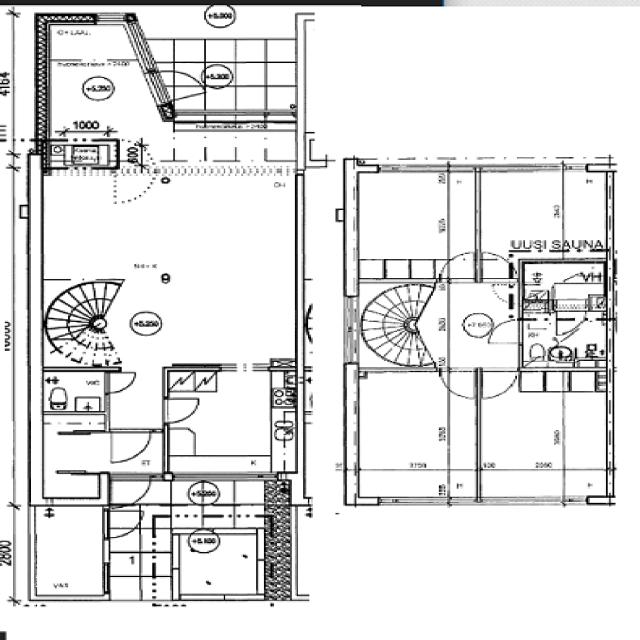door: (106, 426, 158, 467), (476, 366, 519, 401), (107, 474, 153, 506), (442, 366, 480, 400), (104, 509, 143, 542), (440, 250, 480, 282), (160, 395, 202, 425), (475, 250, 514, 282), (482, 317, 523, 347), (101, 370, 139, 396), (488, 281, 516, 303)
window: (340, 295, 360, 365), (480, 494, 562, 508), (360, 364, 436, 378), (374, 495, 448, 509), (376, 160, 445, 175), (219, 359, 274, 374), (92, 11, 130, 26), (562, 495, 589, 508), (221, 594, 263, 602), (559, 162, 591, 172)
zone: (105, 479, 284, 604), (147, 1, 300, 120), (478, 368, 612, 500), (164, 367, 296, 475), (352, 368, 456, 500), (475, 169, 611, 261), (44, 28, 148, 142), (352, 168, 454, 282), (31, 502, 106, 602), (172, 526, 269, 599), (519, 316, 610, 367), (521, 262, 608, 307), (47, 23, 137, 62), (41, 370, 108, 413), (56, 140, 118, 167), (42, 413, 108, 434)
